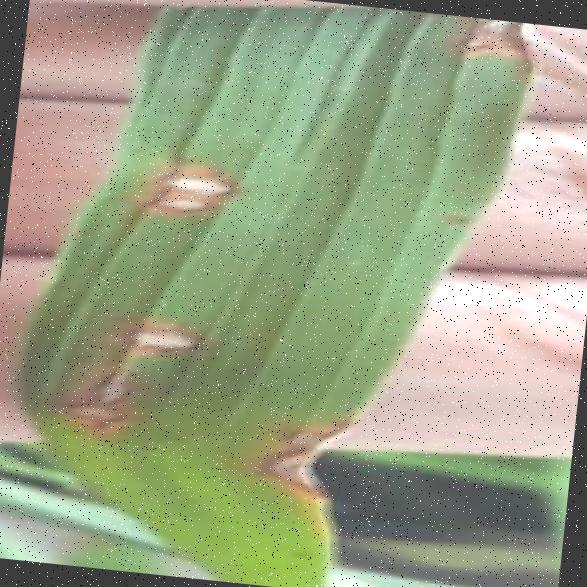Leaf_smut: (92, 285, 238, 374), (252, 404, 360, 520), (127, 133, 254, 202), (406, 168, 496, 260), (126, 180, 232, 235), (464, 16, 546, 70), (61, 348, 130, 411), (60, 393, 134, 451)
